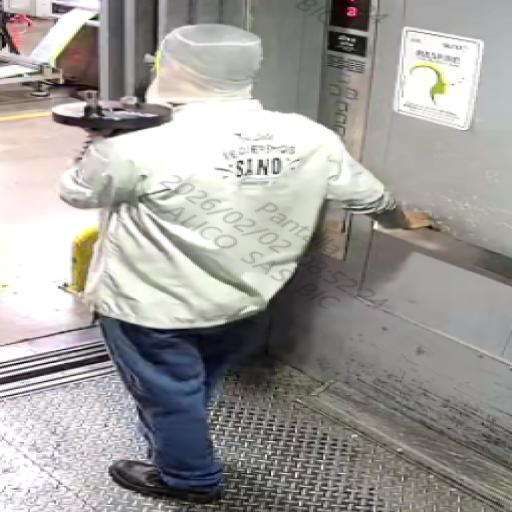person: (42, 14, 458, 512)
